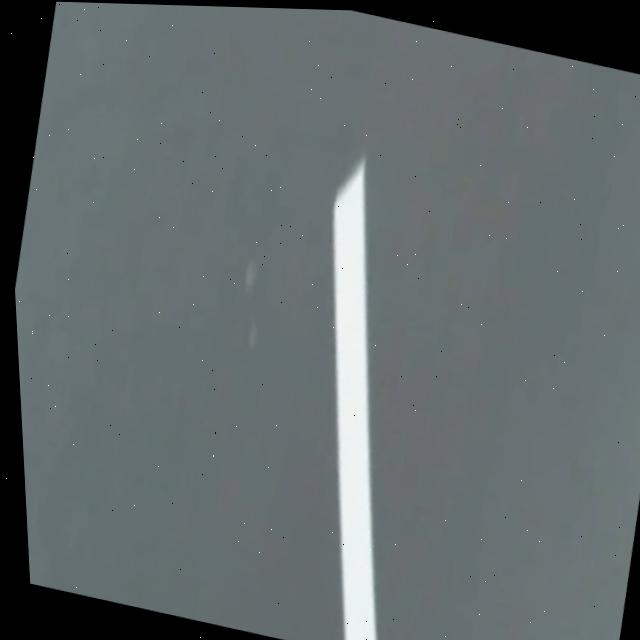center: (333, 159, 376, 640)
